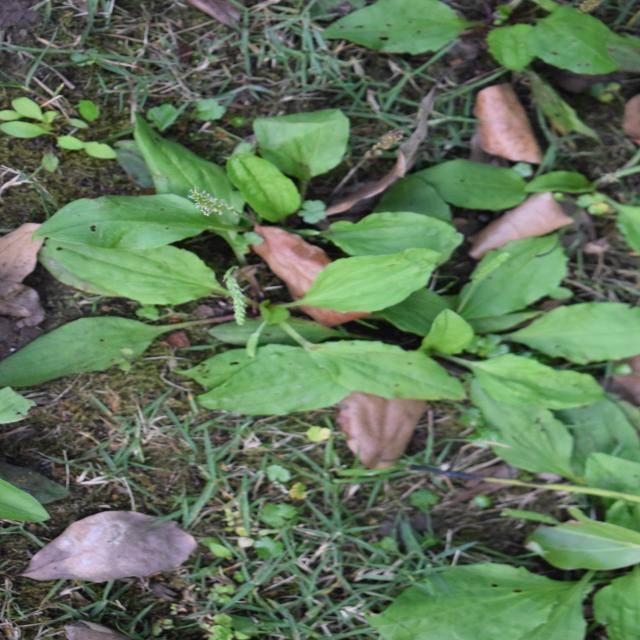plantain: (158, 85, 428, 603)
